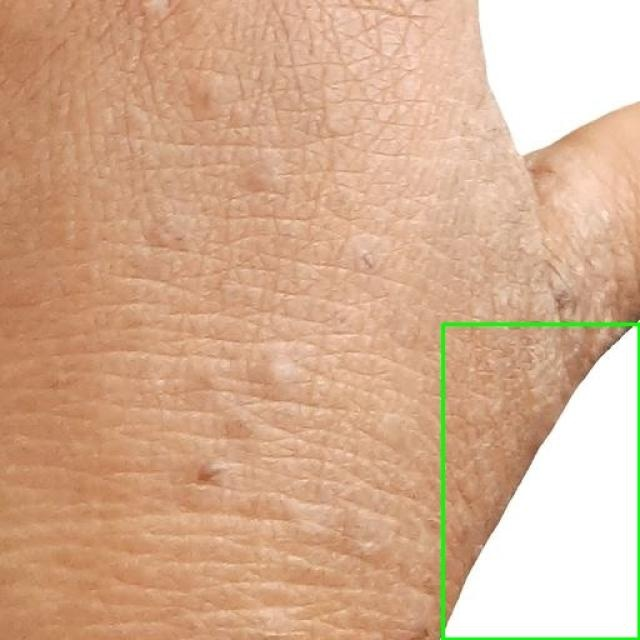Scabies: (442, 324, 639, 639)
